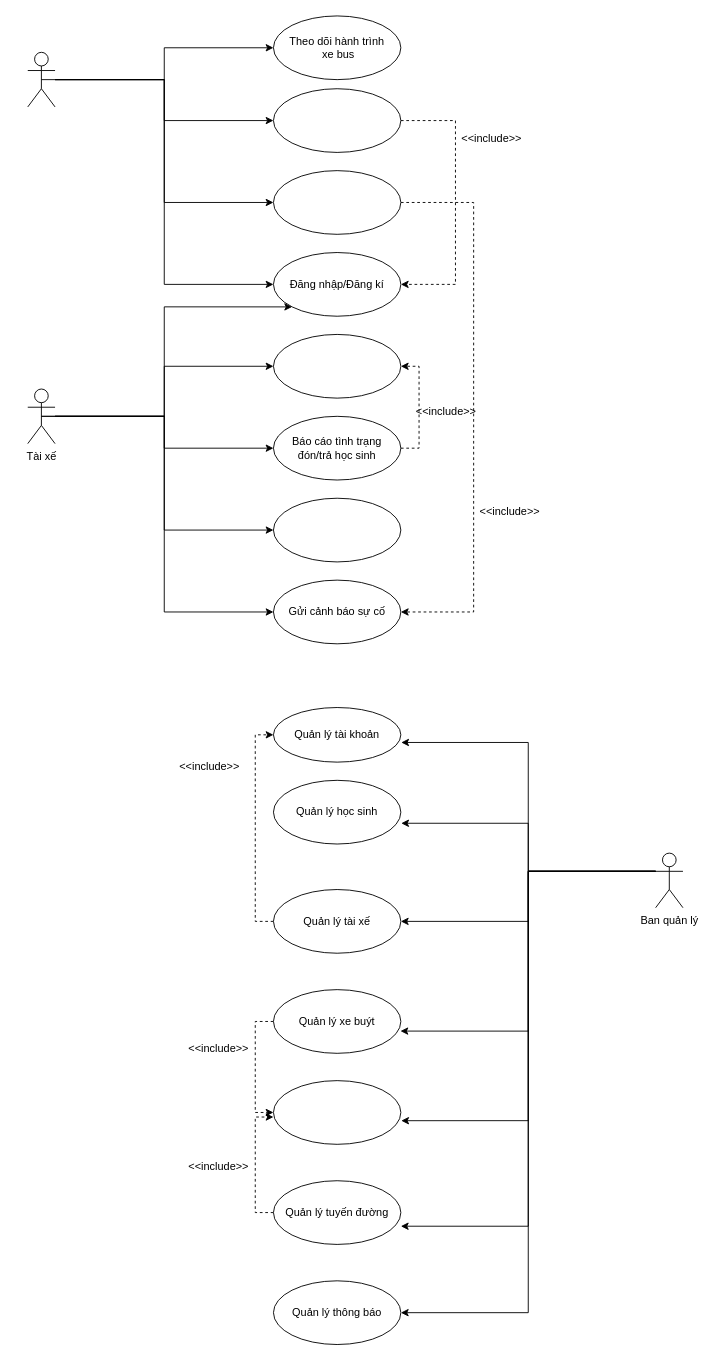
The diagram is 713 pixels wide and 1360 high, and some of its shapes have lost their labels. The centre of each missing label's shape, as x and y in pixels:
"Nhận thông báo, cảnh báo" goes at [337,202].
"Phụ huynh" goes at [41,79].
"Quản lý lịch trình xe" goes at [337,1112].
"Xem danh sách học sinh cần đón" goes at [337,366].
"Xem lịch làm việc" goes at [337,529].
"Xem thông tin cá nhân" goes at [337,120].
